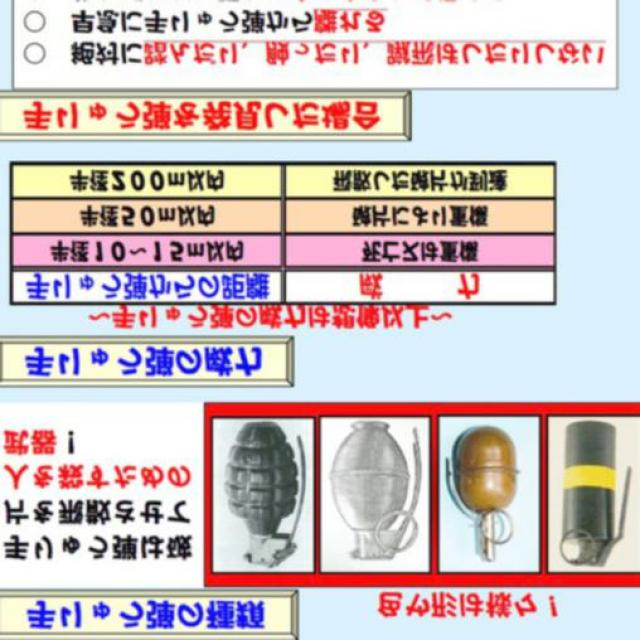grenade: (331, 419, 424, 563), (224, 421, 311, 569), (561, 422, 638, 569), (448, 425, 523, 563)
